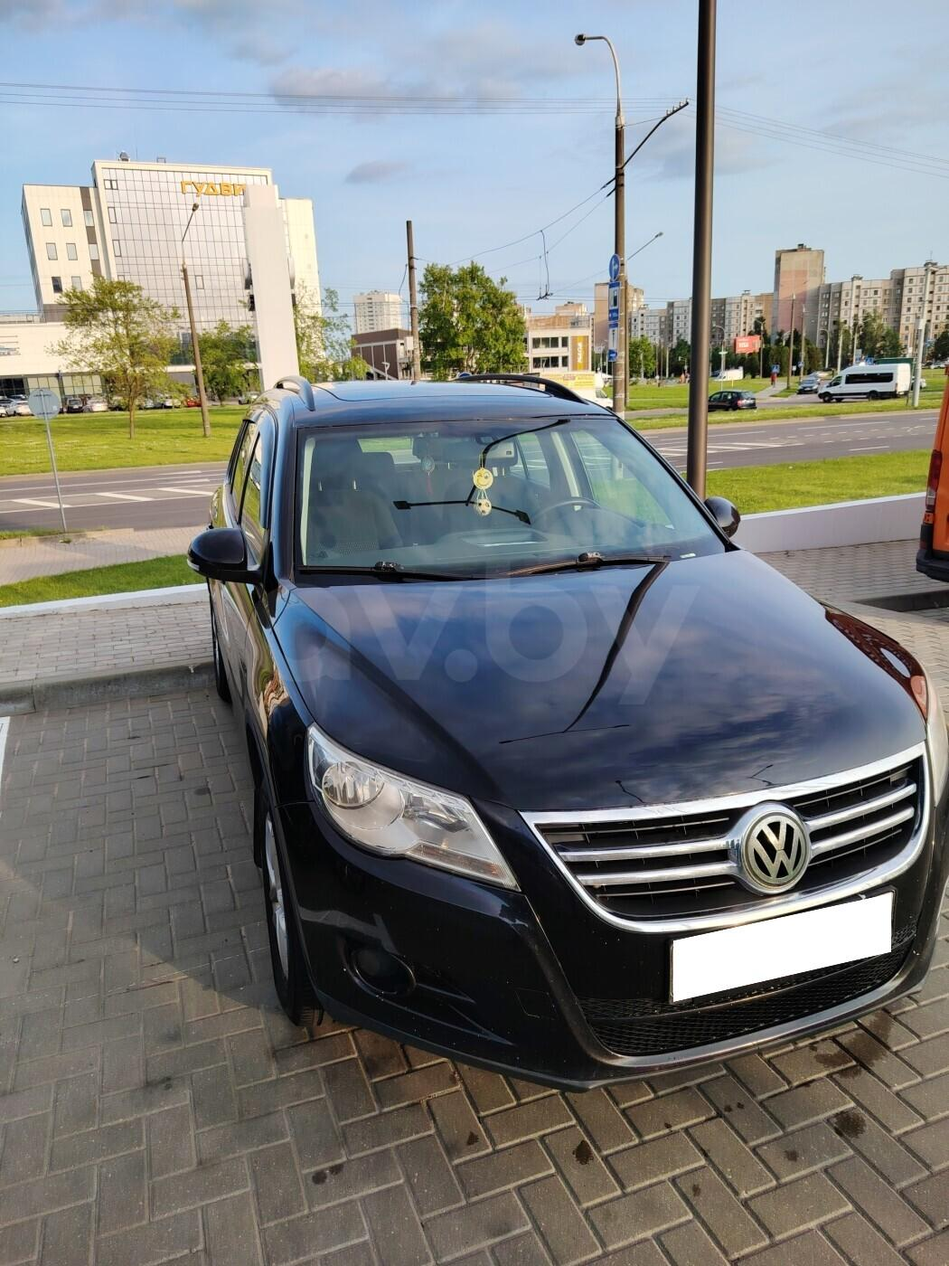Tiguan_2007-2011: (190, 380, 949, 1092)
